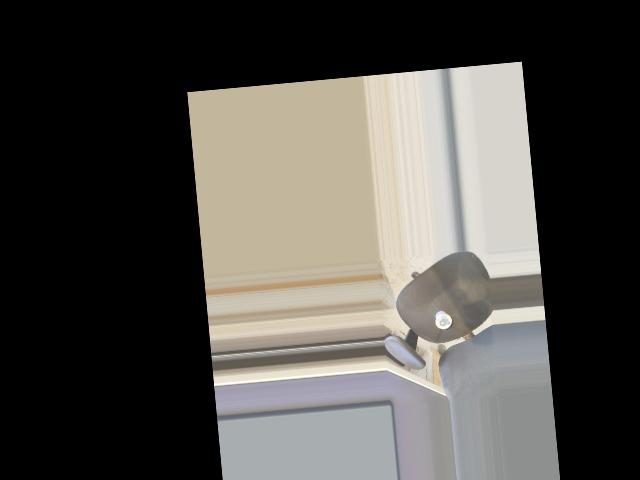cotage: (433, 305, 456, 330)
